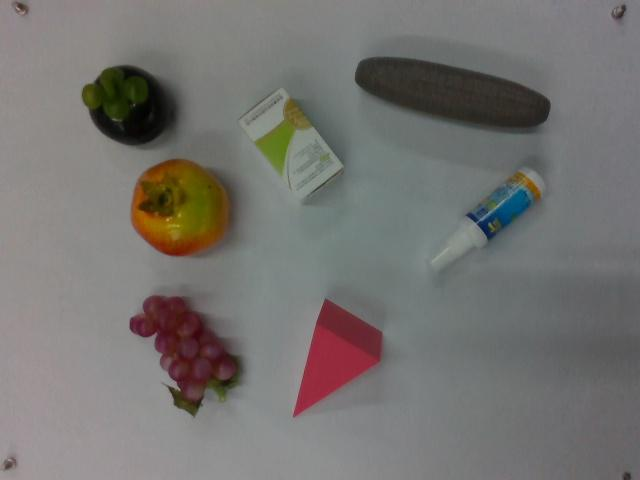carton: (236, 84, 345, 205)
detergent: (428, 163, 552, 273)
glassescase: (355, 51, 554, 136)
grape: (126, 291, 248, 416)
mangosteen: (79, 62, 179, 148)
pomegranate: (128, 155, 231, 258)
pyramid: (290, 294, 384, 420)
